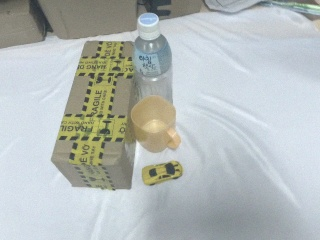bottle: (129, 12, 182, 153), (131, 13, 173, 106)
box: (52, 41, 136, 189)
cup: (130, 96, 182, 154)
toy_car: (142, 161, 183, 185)
